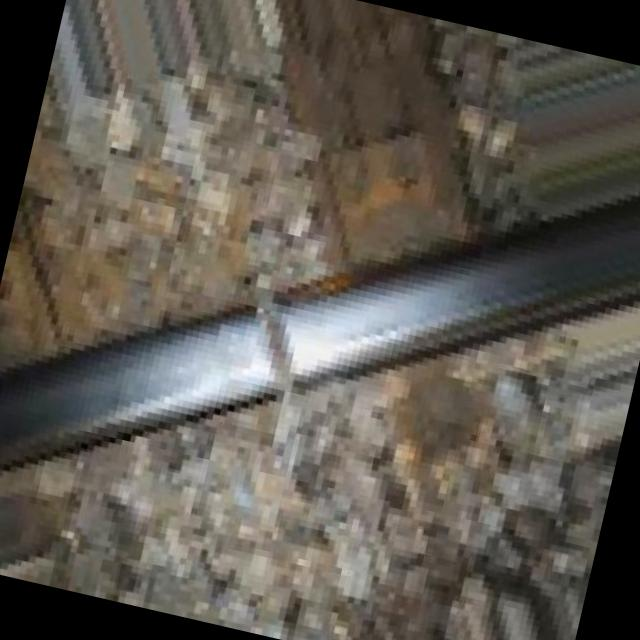defective: (0, 107, 574, 640)
